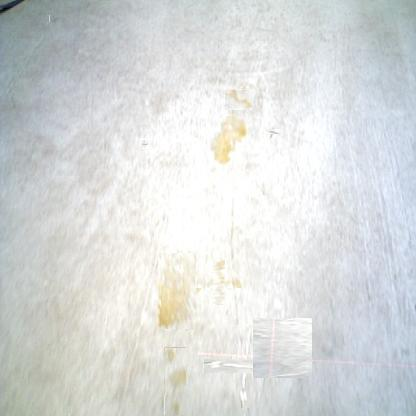liquid: (252, 318, 312, 378), (158, 253, 196, 329), (221, 342, 269, 391), (209, 114, 246, 162), (164, 347, 186, 415), (204, 267, 234, 297), (226, 88, 251, 112)
mark: (267, 126, 278, 137), (50, 14, 59, 23), (141, 141, 147, 148)
